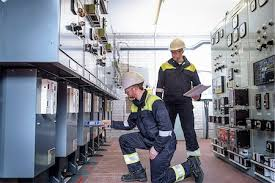Person_wearing_helmet: (117, 66, 146, 93), (163, 34, 190, 53)
